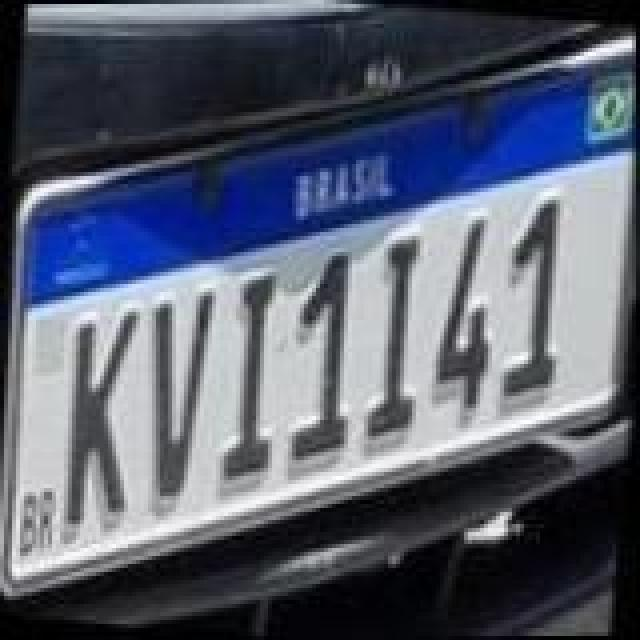1: (284, 248, 368, 464), (494, 194, 574, 406)
4: (430, 210, 510, 410)
I: (216, 270, 292, 486), (360, 228, 436, 440)
K: (56, 304, 152, 536)
V: (134, 286, 218, 502)
